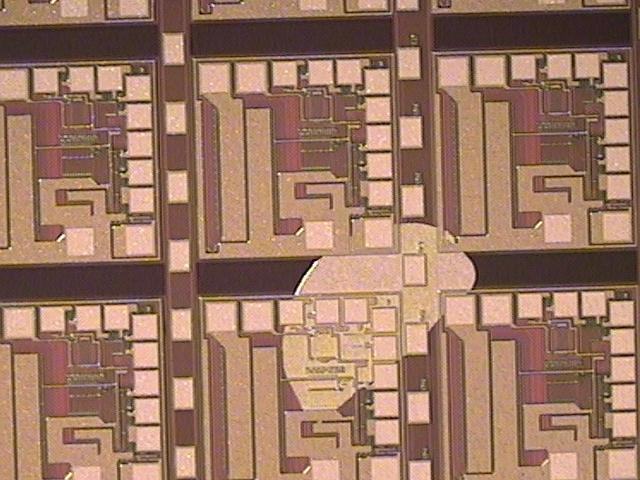BLOCK ETCH: (277, 217, 486, 427)
